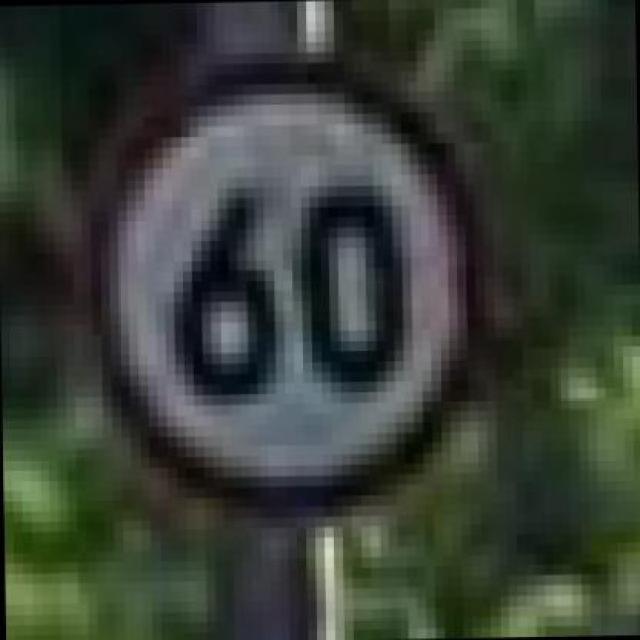Limite-60: (82, 53, 500, 527)
